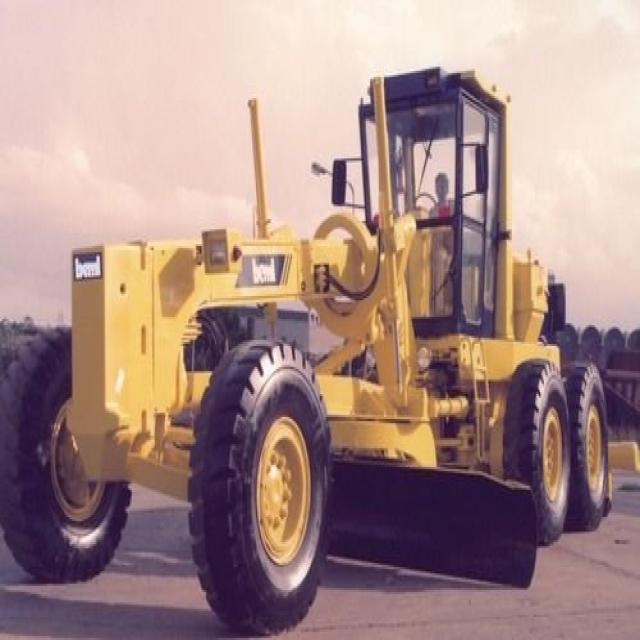buldozerpayloadergrader: (7, 71, 608, 624)
